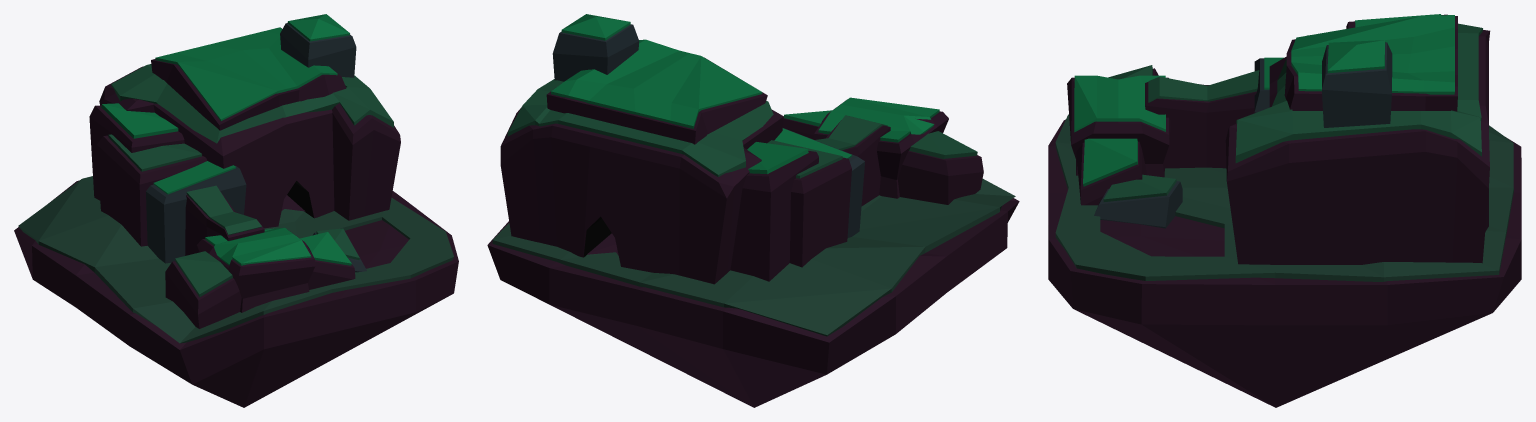
The model's file is Ilha_3.fbx.
3 renders of one model, left to right at view 1: azimuth 30°, elevation 25°; view 2: azimuth 150°, elevation 25°; view 3: azimuth 270°, elevation 25°, orthographic. The views are drawn at different scales.
Parts seen in each view (by area): view 1: Ilha 3; view 2: Ilha 3; view 3: Ilha 3.
Part boxes in pixels (left/top/right/bottom): Ilha 3: left=14, top=14, right=458, bottom=407; Ilha 3: left=487, top=14, right=1019, bottom=407; Ilha 3: left=1048, top=14, right=1521, bottom=407.
Bounding box in the file's own units: 200 × 200 × 200.
